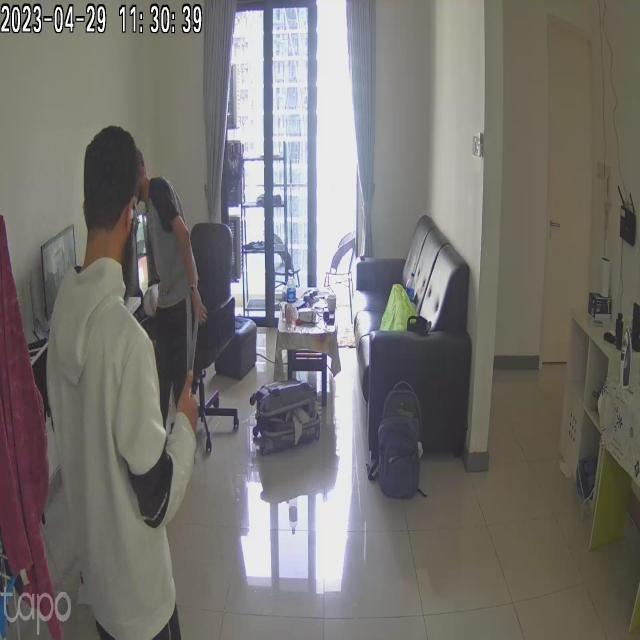Knife: (182, 303, 211, 396)
